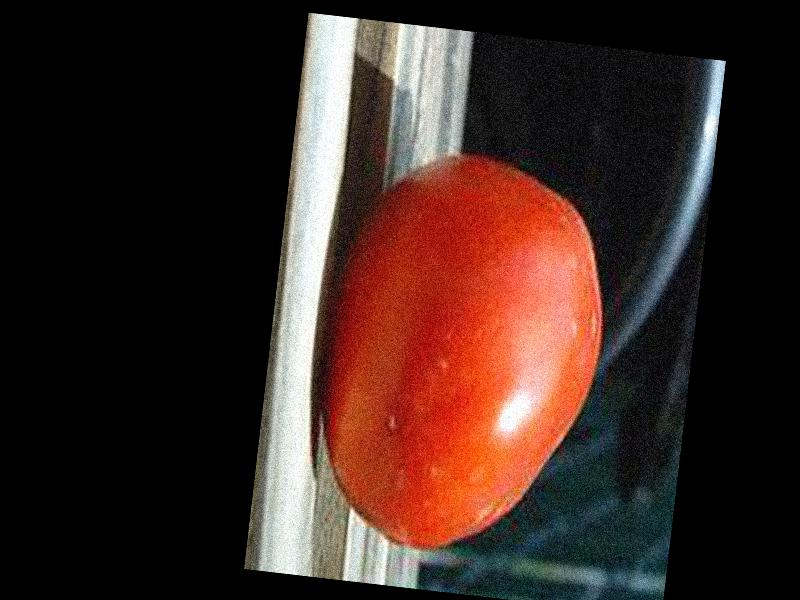Tomato: (307, 144, 620, 568)
